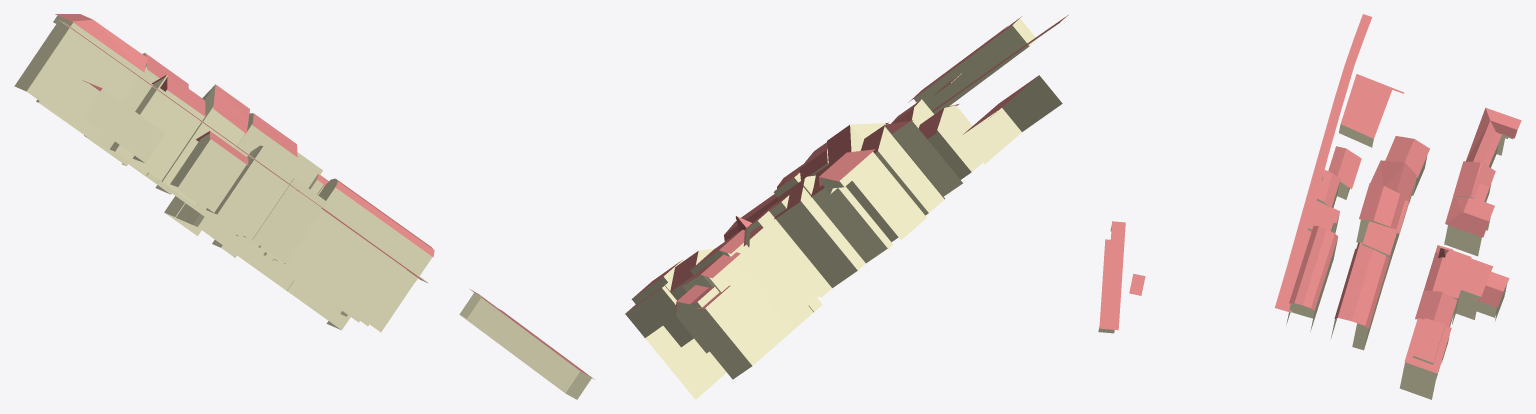
Rendered from tile_094.glb.
The picture shows the model from 3 angles, left to right: view 1: azimuth 30°, elevation 25°; view 2: azimuth 150°, elevation 25°; view 3: azimuth 270°, elevation 25°; orthographic projection. The views are drawn at different scales.
Visible parts, largest first — view 1: Batched_Building_ID_4663D8CF-C51A-4754-8E80-EEA3C6361B13, Batched_Building_ID_C5784314-90B7-4171-A890-C320150AE9A4; view 2: Batched_Building_ID_4663D8CF-C51A-4754-8E80-EEA3C6361B13, Batched_Building_ID_C5784314-90B7-4171-A890-C320150AE9A4; view 3: Batched_Building_ID_C5784314-90B7-4171-A890-C320150AE9A4, Batched_Building_ID_4663D8CF-C51A-4754-8E80-EEA3C6361B13.
Boxes of the visible parts, x1,y1,x2,y2 form: Batched_Building_ID_4663D8CF-C51A-4754-8E80-EEA3C6361B13: (14, 15, 591, 399); Batched_Building_ID_C5784314-90B7-4171-A890-C320150AE9A4: (55, 14, 594, 379); Batched_Building_ID_4663D8CF-C51A-4754-8E80-EEA3C6361B13: (625, 14, 1069, 399); Batched_Building_ID_C5784314-90B7-4171-A890-C320150AE9A4: (625, 15, 1067, 317); Batched_Building_ID_C5784314-90B7-4171-A890-C320150AE9A4: (1099, 14, 1521, 373); Batched_Building_ID_4663D8CF-C51A-4754-8E80-EEA3C6361B13: (1098, 124, 1513, 399).
Size of the model in its own units: 129 by 135 by 184.
